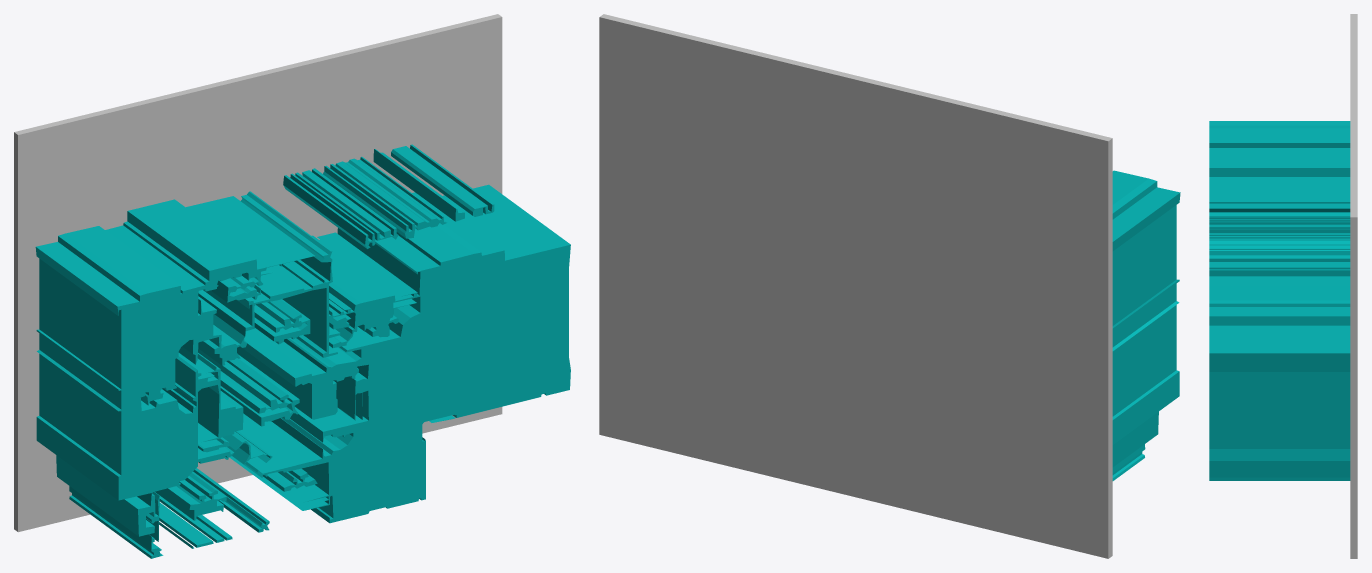
3 renders of one model, left to right at view 1: azimuth 30°, elevation 25°; view 2: azimuth 150°, elevation 25°; view 3: azimuth 270°, elevation 25°, orthographic. The views are drawn at different scales.
Parts seen in each view (by area): view 1: world; view 2: world; view 3: world.
Boxes of the visible parts, bbox=[...] form: world: bbox=[14, 14, 570, 558]; world: bbox=[599, 14, 1180, 558]; world: bbox=[1209, 14, 1357, 558].
Size of the model in its own units: 10.23 by 8.02 by 3.15.
